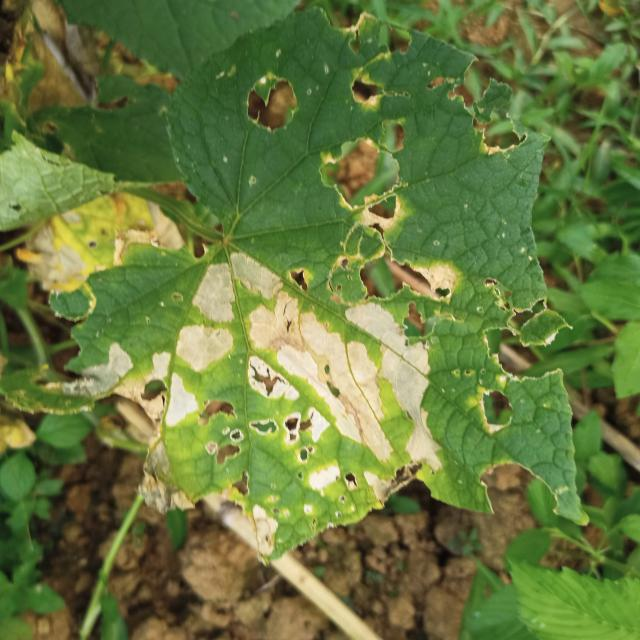disease_cucumber: (141, 210, 523, 501)
